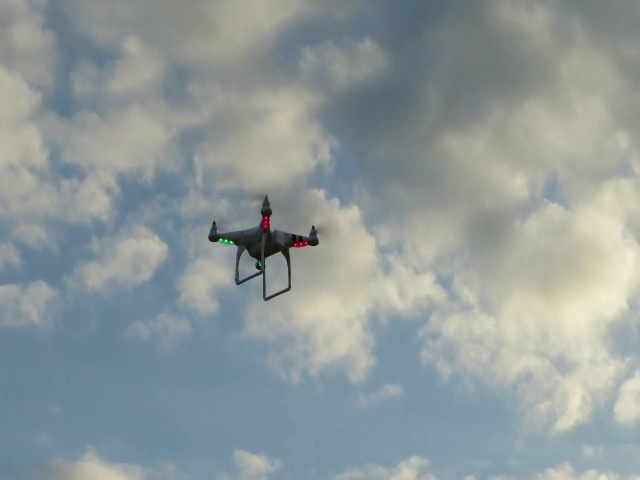drone: (199, 187, 336, 303)
